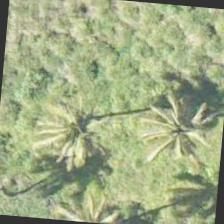Kelapa_Sawit: (9, 104, 107, 202), (118, 68, 216, 166)
